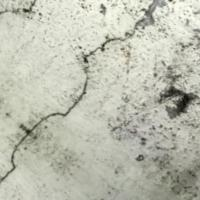crack: (2, 9, 130, 199)
